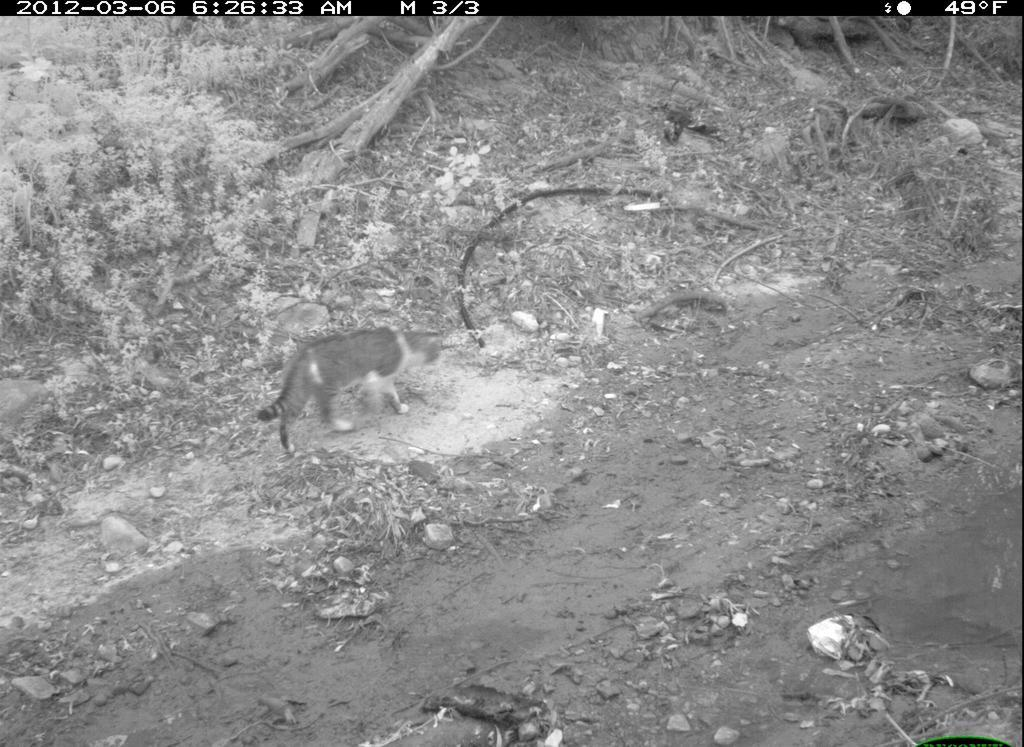cat: (250, 321, 468, 461)
